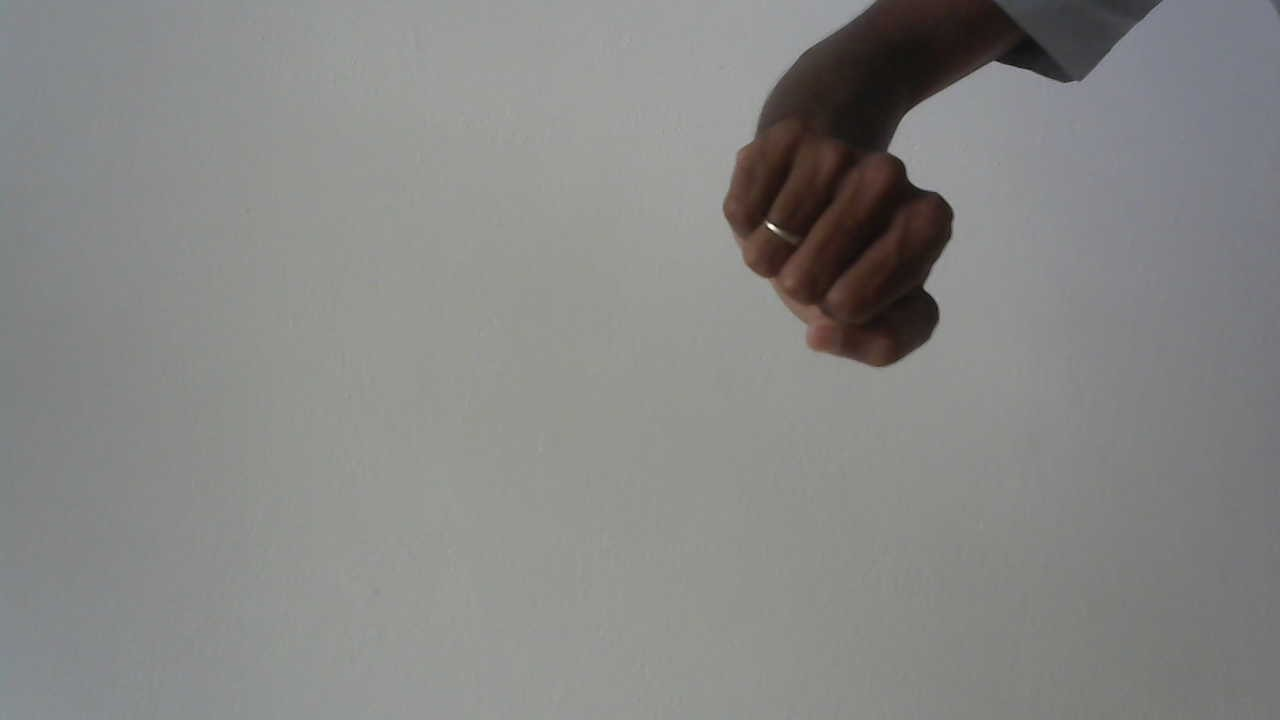yes: (716, 111, 964, 378)
